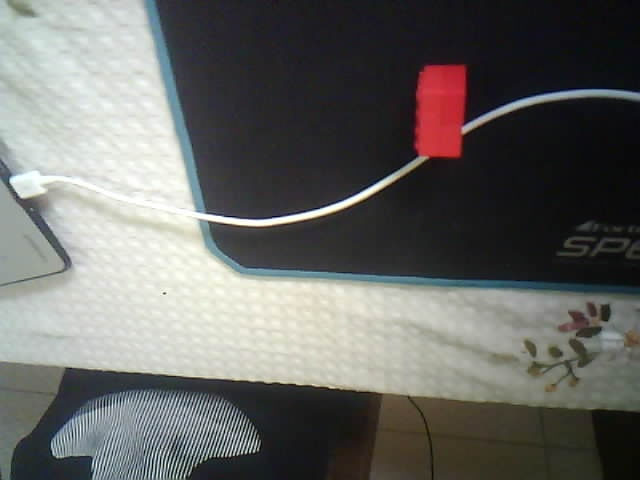lego: (413, 63, 468, 159)
